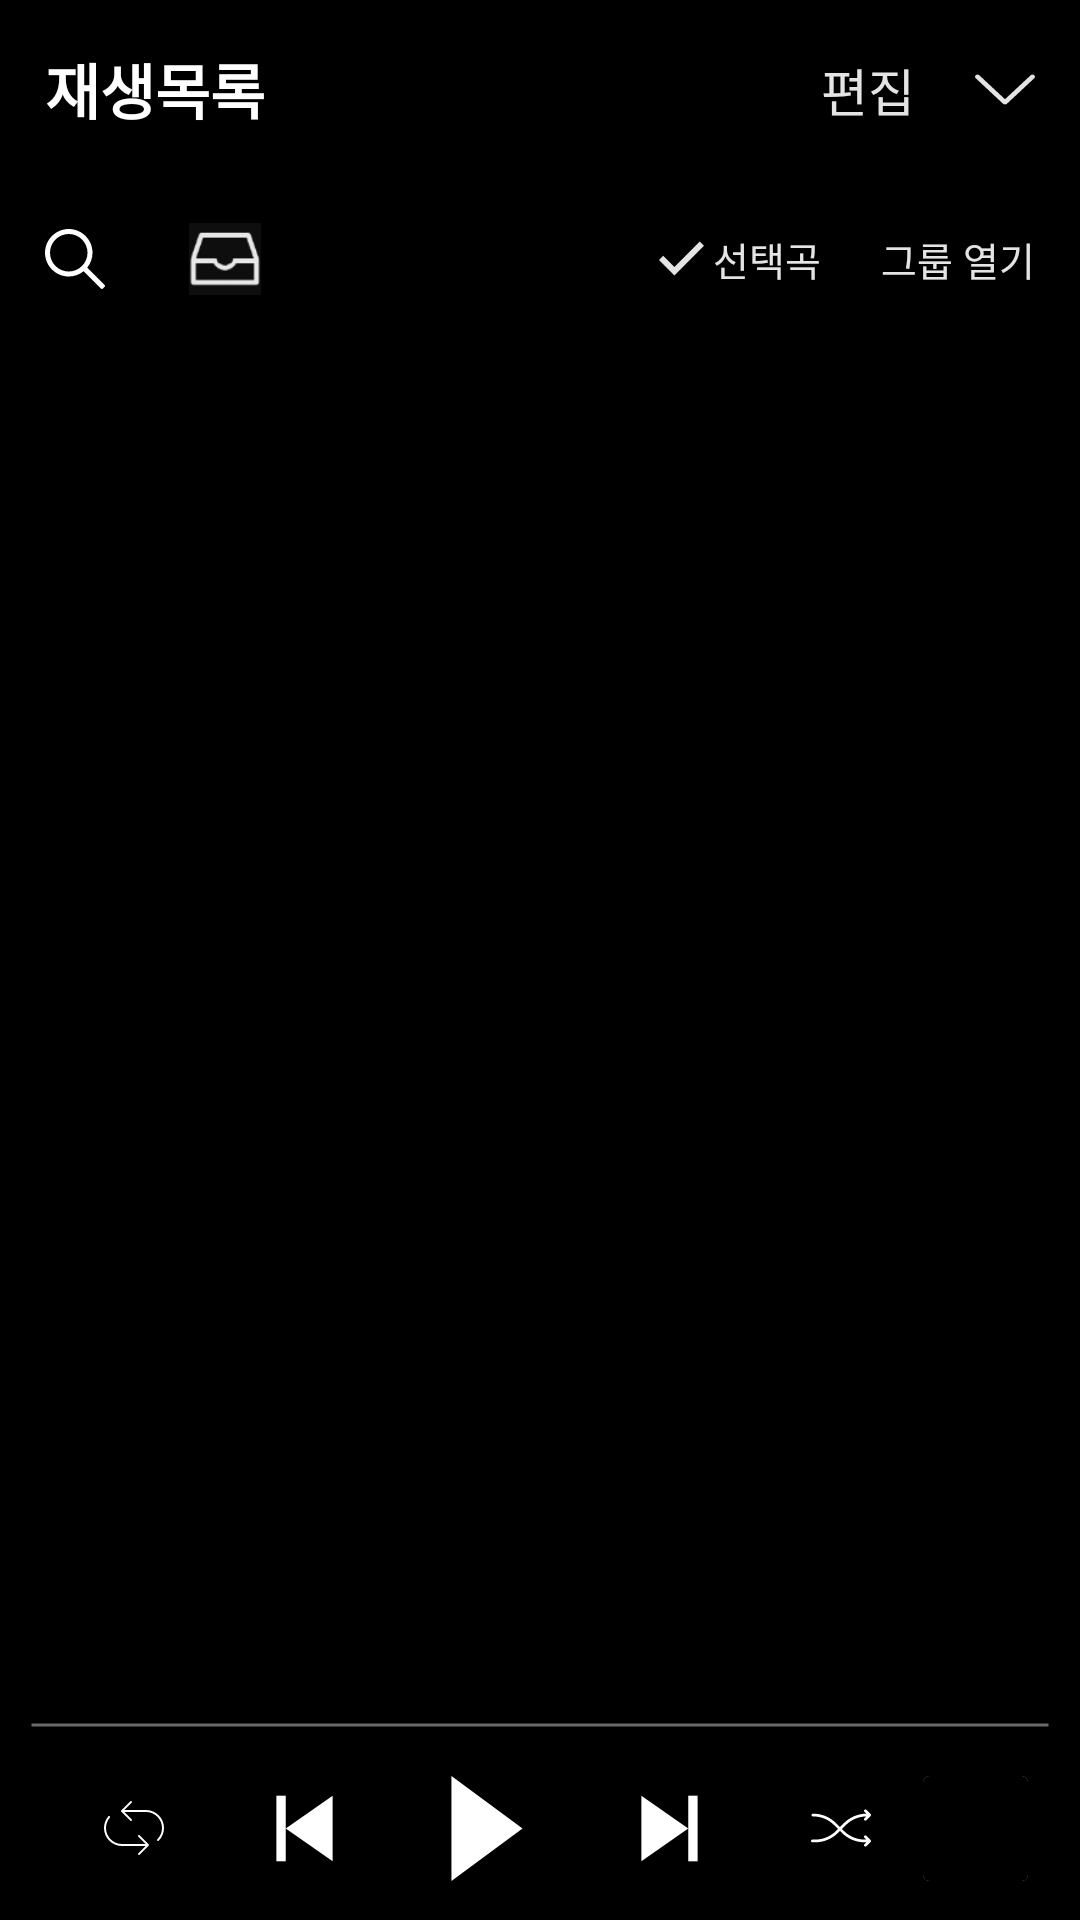

Where icons sit on this 1080×1920 app screen, as bbox(x1, y1, x2, y2):
checked: bbox(659, 241, 704, 276)
down arrow: bbox(975, 74, 1035, 105)
play: bbox(451, 1776, 523, 1881)
previous track: bbox(276, 1795, 333, 1862)
repeat: bbox(104, 1801, 164, 1855)
search: bbox(45, 229, 105, 289)
shuffle arrows: bbox(811, 1809, 871, 1847)
skip track: bbox(641, 1795, 698, 1862)
storage: bbox(189, 223, 261, 295)
